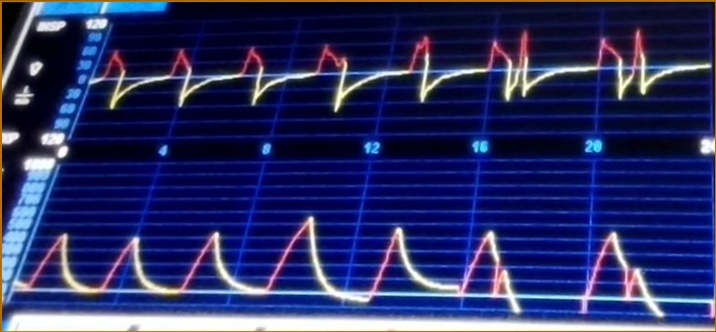Double_Triggering Flow: (99, 29, 676, 127)
Double_Triggering Volume: (29, 205, 687, 313)
